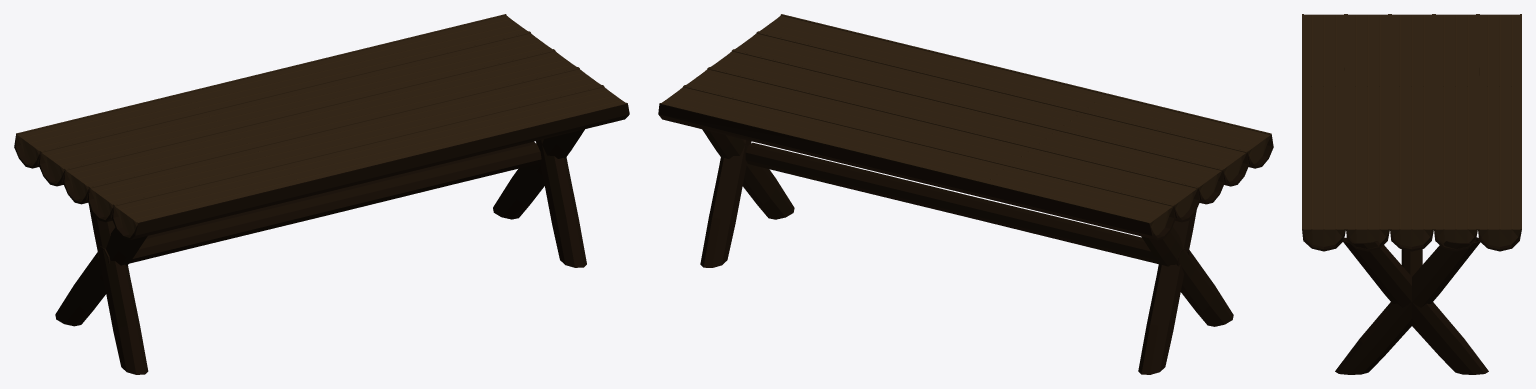
The model's file is PicnicTable_FBX.fbx.
The picture shows the model from 3 angles, left to right: view 1: azimuth 30°, elevation 25°; view 2: azimuth 150°, elevation 25°; view 3: azimuth 270°, elevation 25°; orthographic projection. The views are drawn at different scales.
Visible parts, largest first — view 1: CUT LOG 016, CUT LOG 020, CUT LOG 019, CUT LOG 018, CUT LOG 017, LOG 027, LOG 024, LOG 029, LOG 028, LOG 030; view 2: CUT LOG 020, CUT LOG 018, CUT LOG 017, CUT LOG 019, CUT LOG 016, LOG 027, LOG 028, LOG 030, LOG 024, LOG 029; view 3: CUT LOG 016, CUT LOG 020, CUT LOG 018, CUT LOG 017, CUT LOG 019, LOG 029, LOG 030, LOG 027.
Part boxes in pixels (x1,y1,x2,y2): CUT LOG 016: (112, 85, 629, 239); CUT LOG 020: (14, 14, 529, 168); CUT LOG 019: (38, 32, 554, 186); CUT LOG 018: (63, 50, 578, 204); CUT LOG 017: (87, 68, 603, 222); LOG 027: (97, 141, 541, 264); LOG 024: (88, 204, 148, 374); LOG 029: (536, 139, 586, 267); LOG 028: (55, 227, 147, 326); LOG 030: (493, 129, 584, 219); CUT LOG 020: (658, 85, 1175, 240); CUT LOG 018: (708, 50, 1224, 204); CUT LOG 017: (733, 32, 1248, 186); CUT LOG 019: (684, 67, 1200, 222); CUT LOG 016: (757, 14, 1273, 168); LOG 027: (745, 142, 1189, 266); LOG 028: (1138, 210, 1196, 374); LOG 030: (700, 139, 751, 267); LOG 024: (1141, 227, 1233, 326); LOG 029: (702, 129, 794, 219); CUT LOG 016: (1302, 14, 1345, 251); CUT LOG 020: (1478, 14, 1521, 251); CUT LOG 018: (1390, 14, 1433, 251); CUT LOG 017: (1346, 14, 1389, 251); CUT LOG 019: (1434, 14, 1477, 251); LOG 029: (1335, 237, 1480, 374); LOG 030: (1343, 237, 1488, 374); LOG 027: (1401, 249, 1422, 276).
Size of the model in its own units: 236 by 77.94 by 101.
